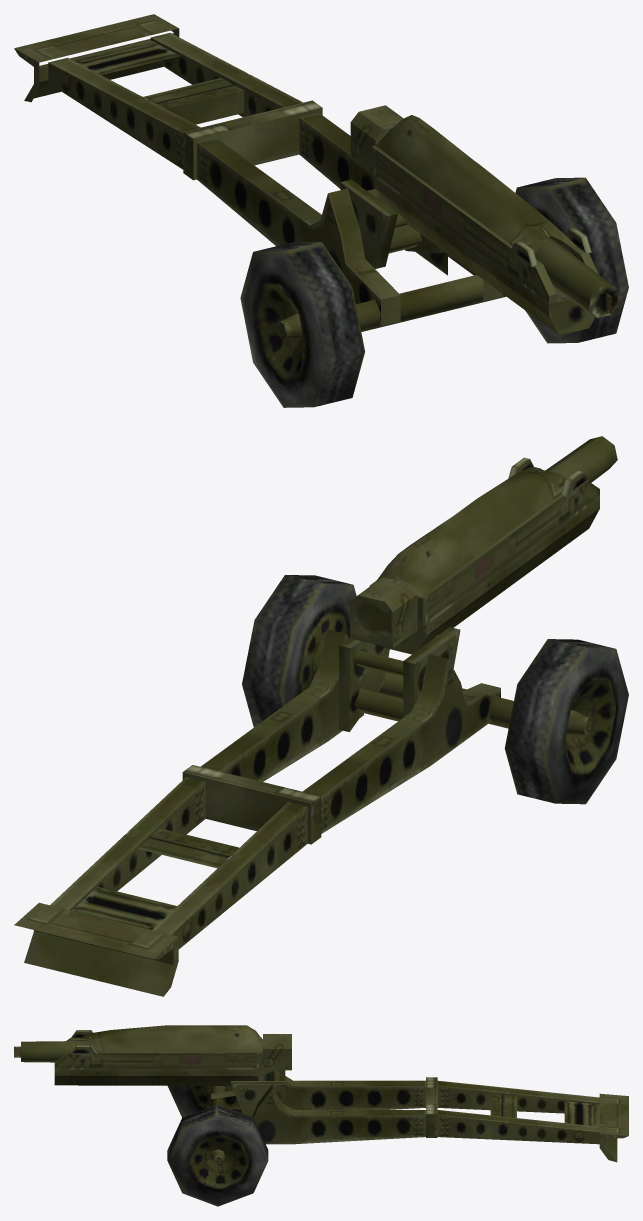
File: GBRParaM8Gun.dae
3 views of the same model, one above another, from view 1: azimuth 30°, elevation 25°; view 2: azimuth 150°, elevation 25°; view 3: azimuth 270°, elevation 25° (orthographic). The views are drawn at different scales.
Visible parts, largest first — view 1: carriage, sleeve, wheels, barrel; view 2: carriage, wheels, sleeve, barrel; view 3: carriage, sleeve, wheels, barrel.
Part boxes in pixels (box(x1,y1,x2,y2)): carriage: box(14, 14, 505, 331); sleeve: box(340, 115, 598, 335); wheels: box(240, 177, 628, 407); barrel: box(350, 105, 619, 317); carriage: box(14, 629, 513, 996); wheels: box(242, 575, 628, 804); sleeve: box(339, 457, 599, 731); barrel: box(350, 436, 617, 648); carriage: box(211, 1076, 628, 1162); sleeve: box(54, 1025, 285, 1116); wheels: box(167, 1085, 268, 1206); barrel: box(21, 1034, 291, 1070).
Bounding box in the file's own units: 10.35 × 30.46 × 7.58.
